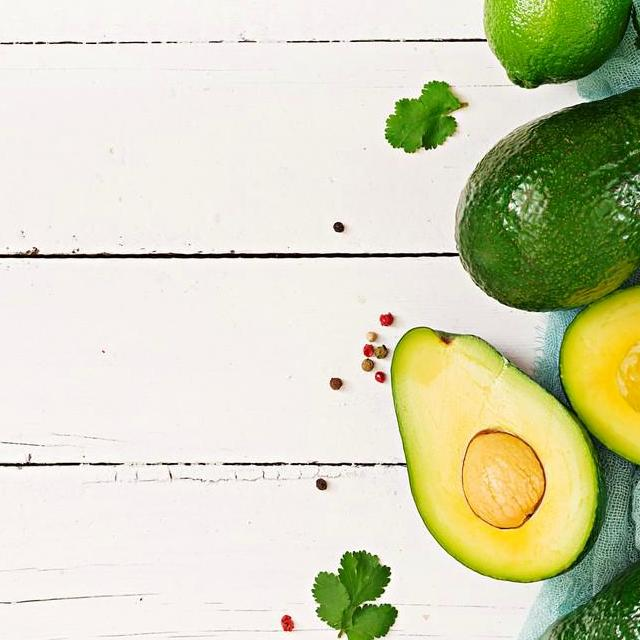lime: (478, 0, 640, 103)
